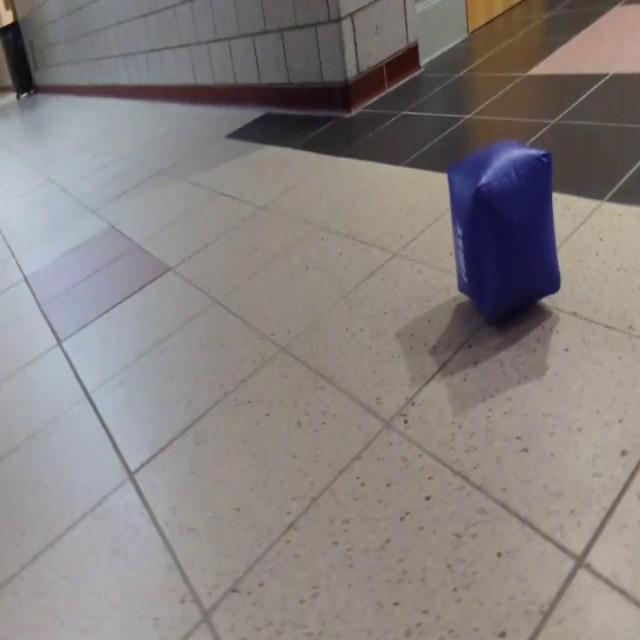frc_cube: (445, 135, 561, 325)
